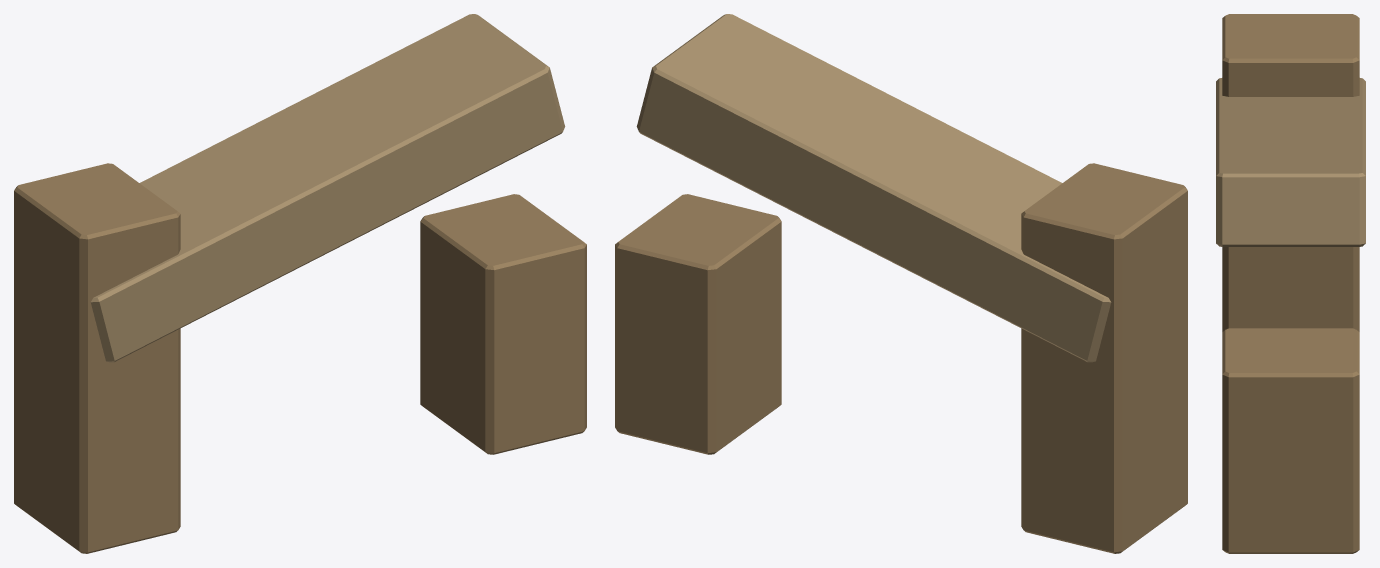
Rendered from ruined-lintel.glb.
The picture shows the model from 3 angles, left to right: view 1: azimuth 30°, elevation 25°; view 2: azimuth 150°, elevation 25°; view 3: azimuth 270°, elevation 25°; orthographic projection. The views are drawn at different scales.
Visible parts, largest first — view 1: ruined-lintel__body; view 2: ruined-lintel__body; view 3: ruined-lintel__body.
Part boxes in pixels (x1,y1,x2,y2): ruined-lintel__body: [14, 14, 586, 553]; ruined-lintel__body: [615, 14, 1187, 553]; ruined-lintel__body: [1216, 14, 1365, 553].
Size of the model in its own units: 2.25 by 1.6 by 0.6.
